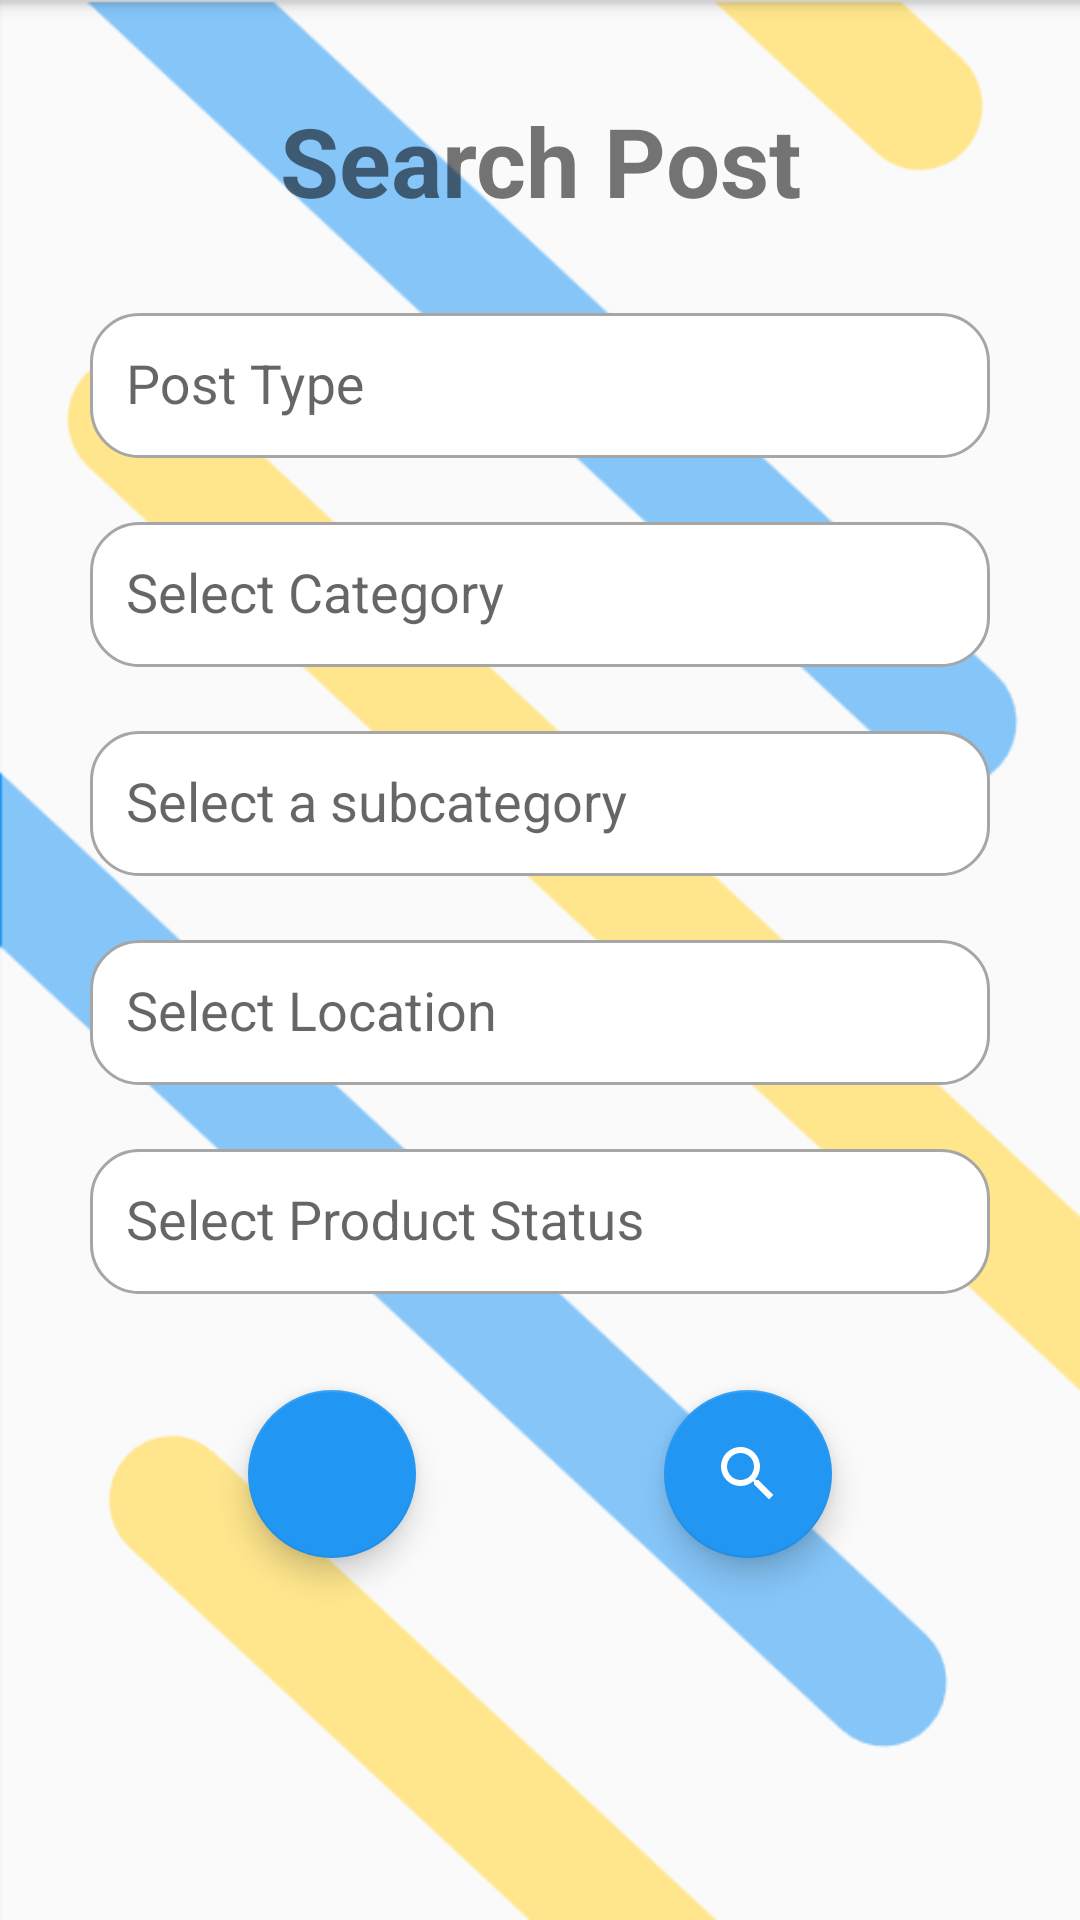

Point at icon controls on the screen. Image size 1080w x 1920h, points as (x=x, y=y).
search: (x=748, y=1474)
